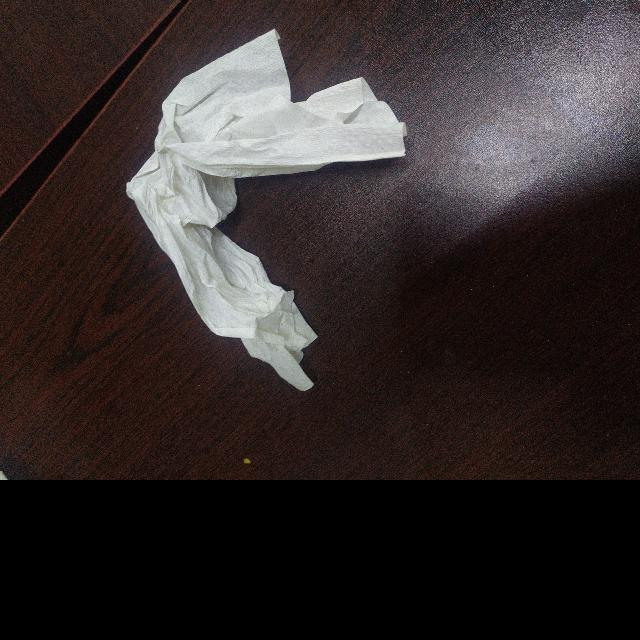kitchen paper: (122, 24, 412, 394)
